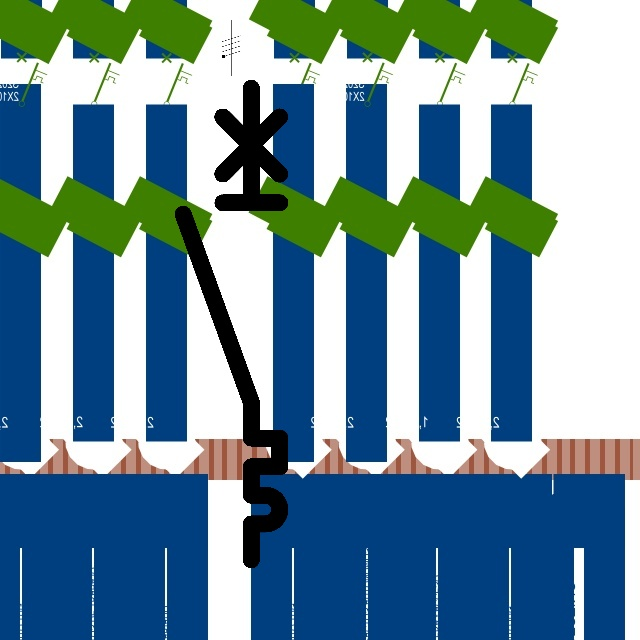interruptor_termomagnetico: (171, 76, 292, 571)
